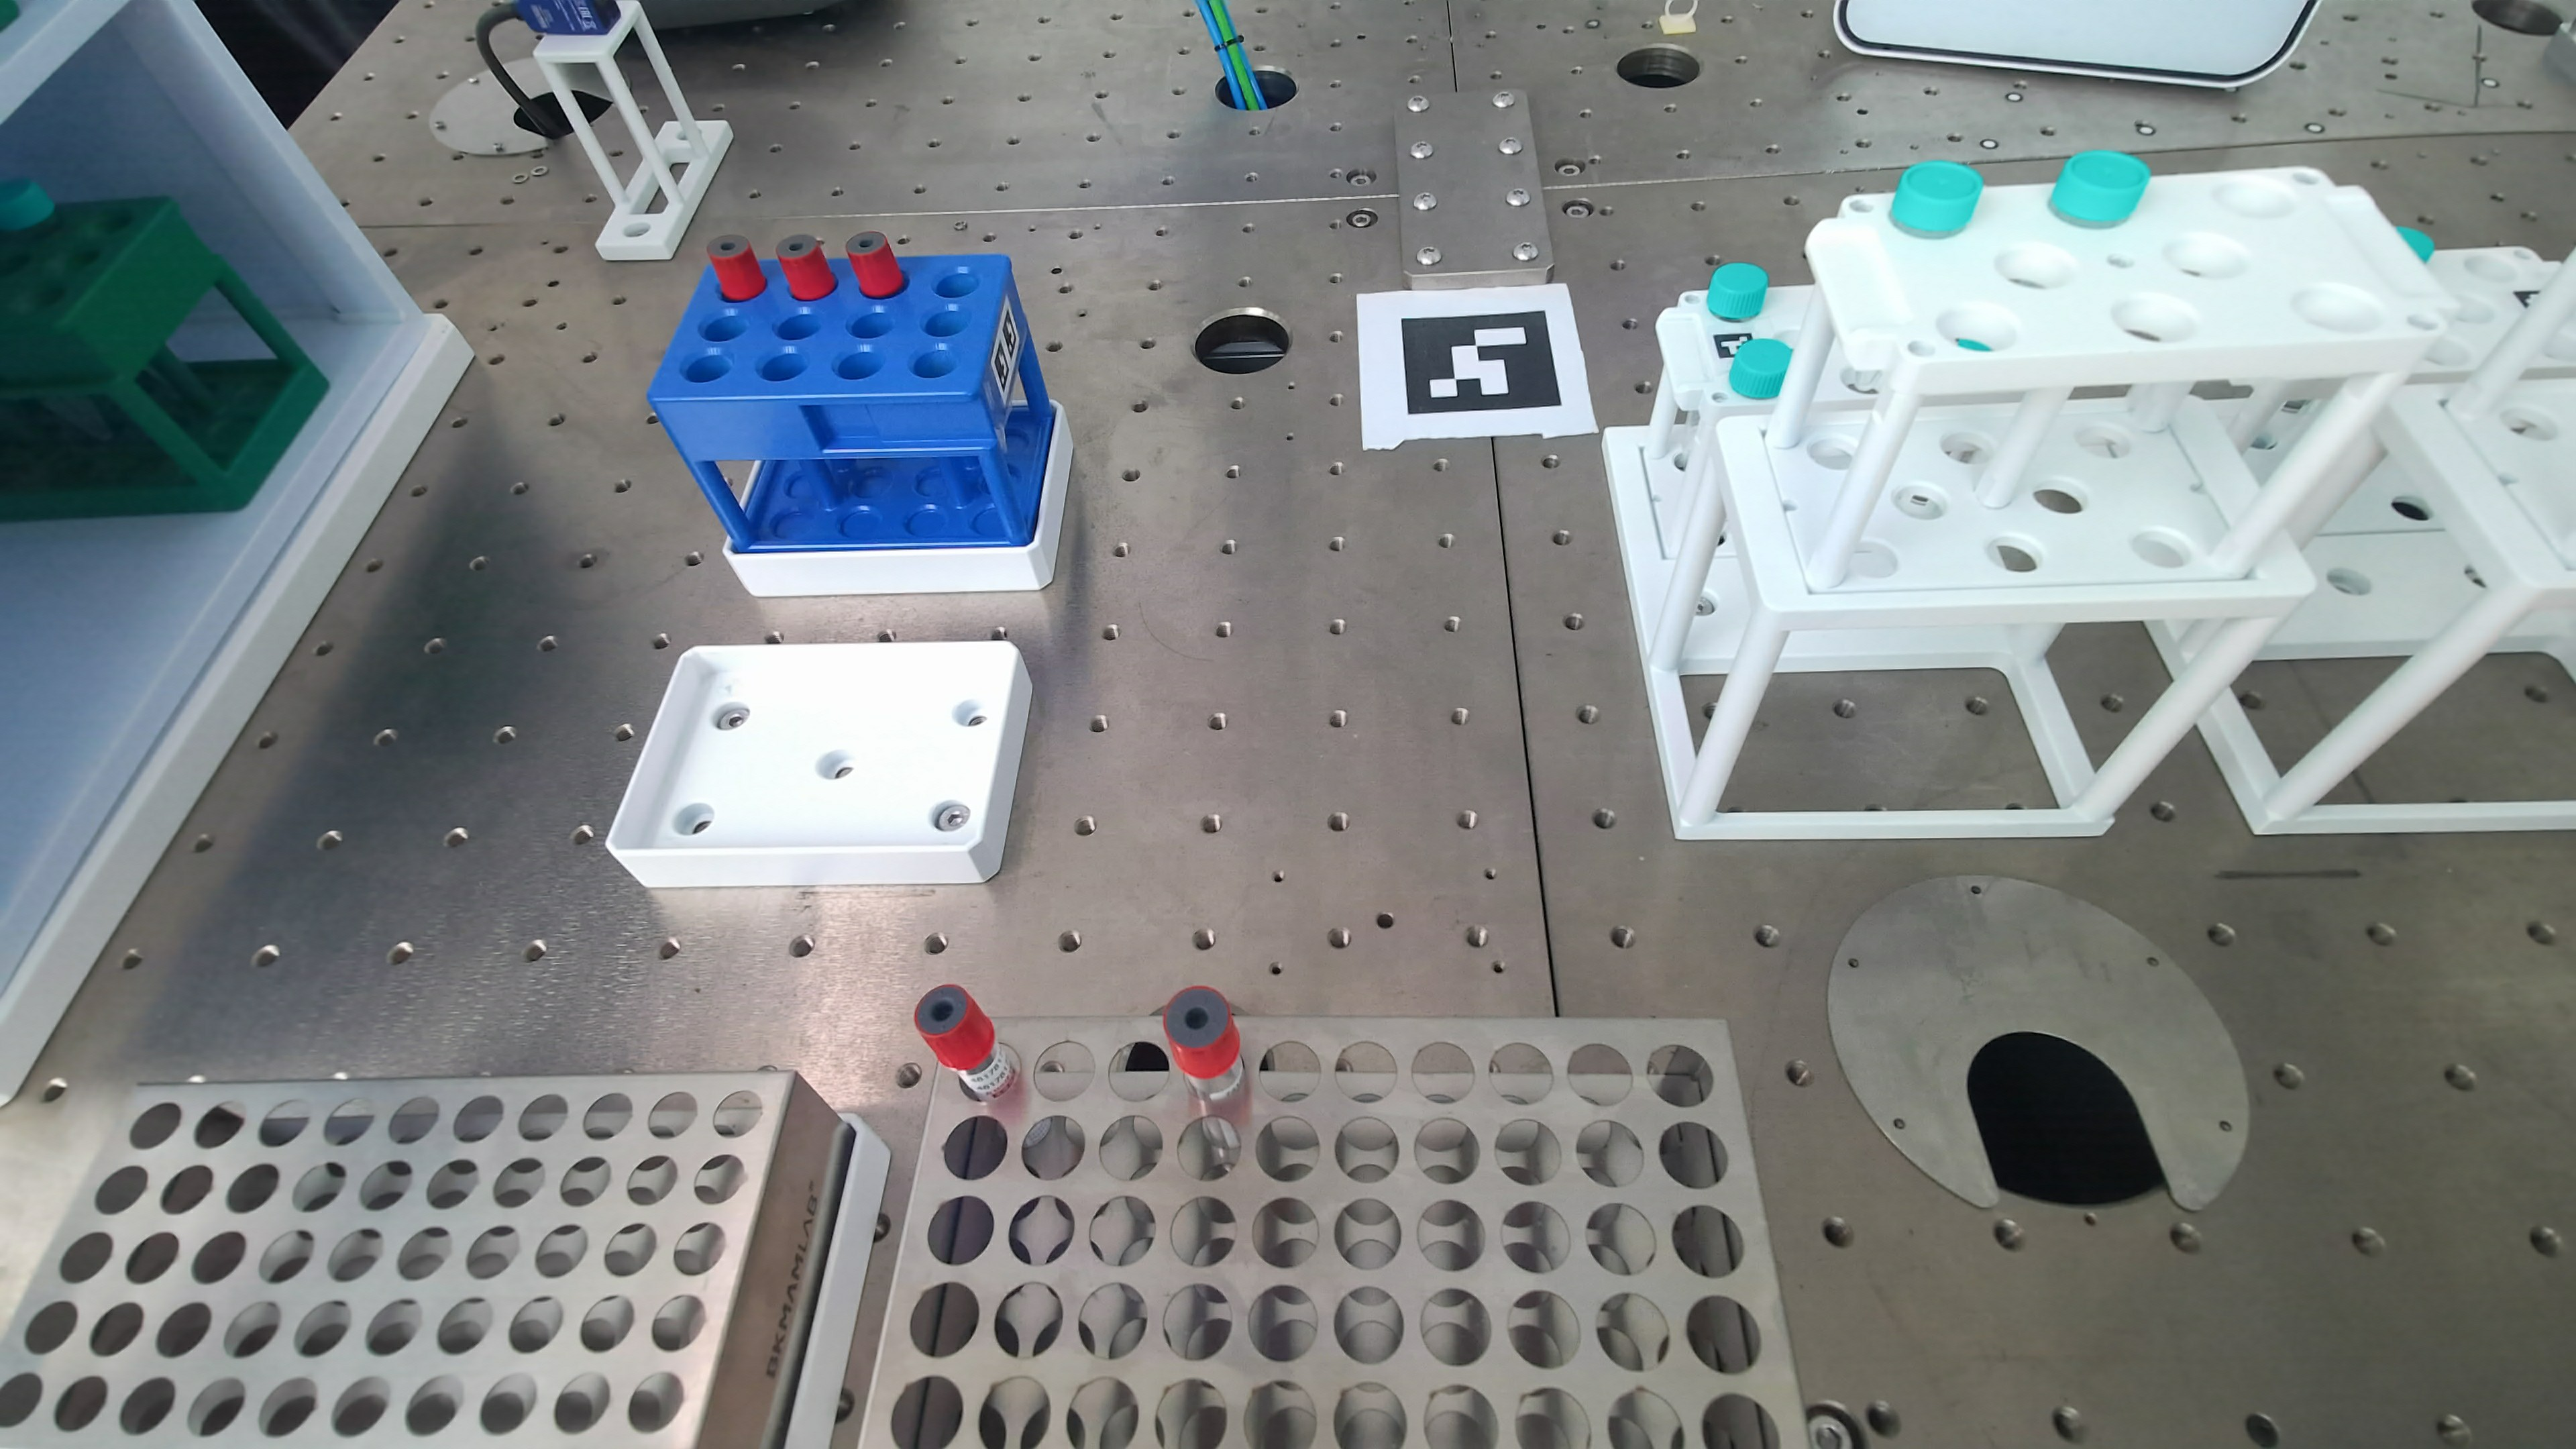10ML_centrifuge_tube: (1729, 338, 1792, 400), (1707, 262, 1767, 320), (0, 177, 55, 234), (2396, 226, 2434, 262), (1955, 336, 1990, 352)
10ML_sorting_tube_rack: (649, 255, 1054, 552)
5ML_centrifuge_tube: (2051, 150, 2150, 226), (1891, 161, 1983, 237)
5ML_sorting_tube_rack: (0, 182, 327, 520)
blood_tube: (915, 984, 1244, 1099), (846, 230, 973, 299), (777, 234, 835, 301), (708, 235, 766, 301)
dispensing_tube_rack: (1605, 154, 2576, 1166)
refrigerator_close: (1833, 0, 2318, 88)
sorting_tube_rack_base: (605, 642, 1031, 888), (725, 405, 1072, 596)
tobe_sorted_tube_rack: (46, 1017, 1806, 1447), (0, 1072, 872, 1447)
tube_rack_storage_cabinet: (0, 0, 653, 1102)
